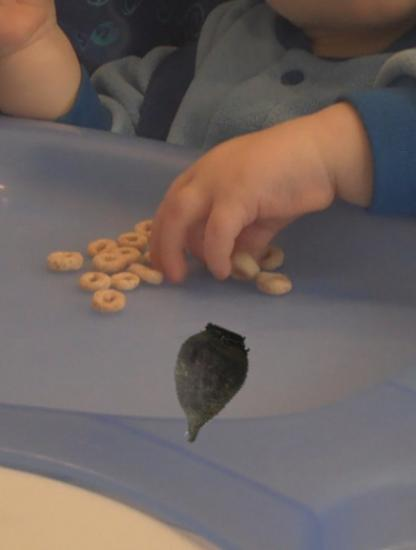Beetroot: (142, 322, 267, 447)
